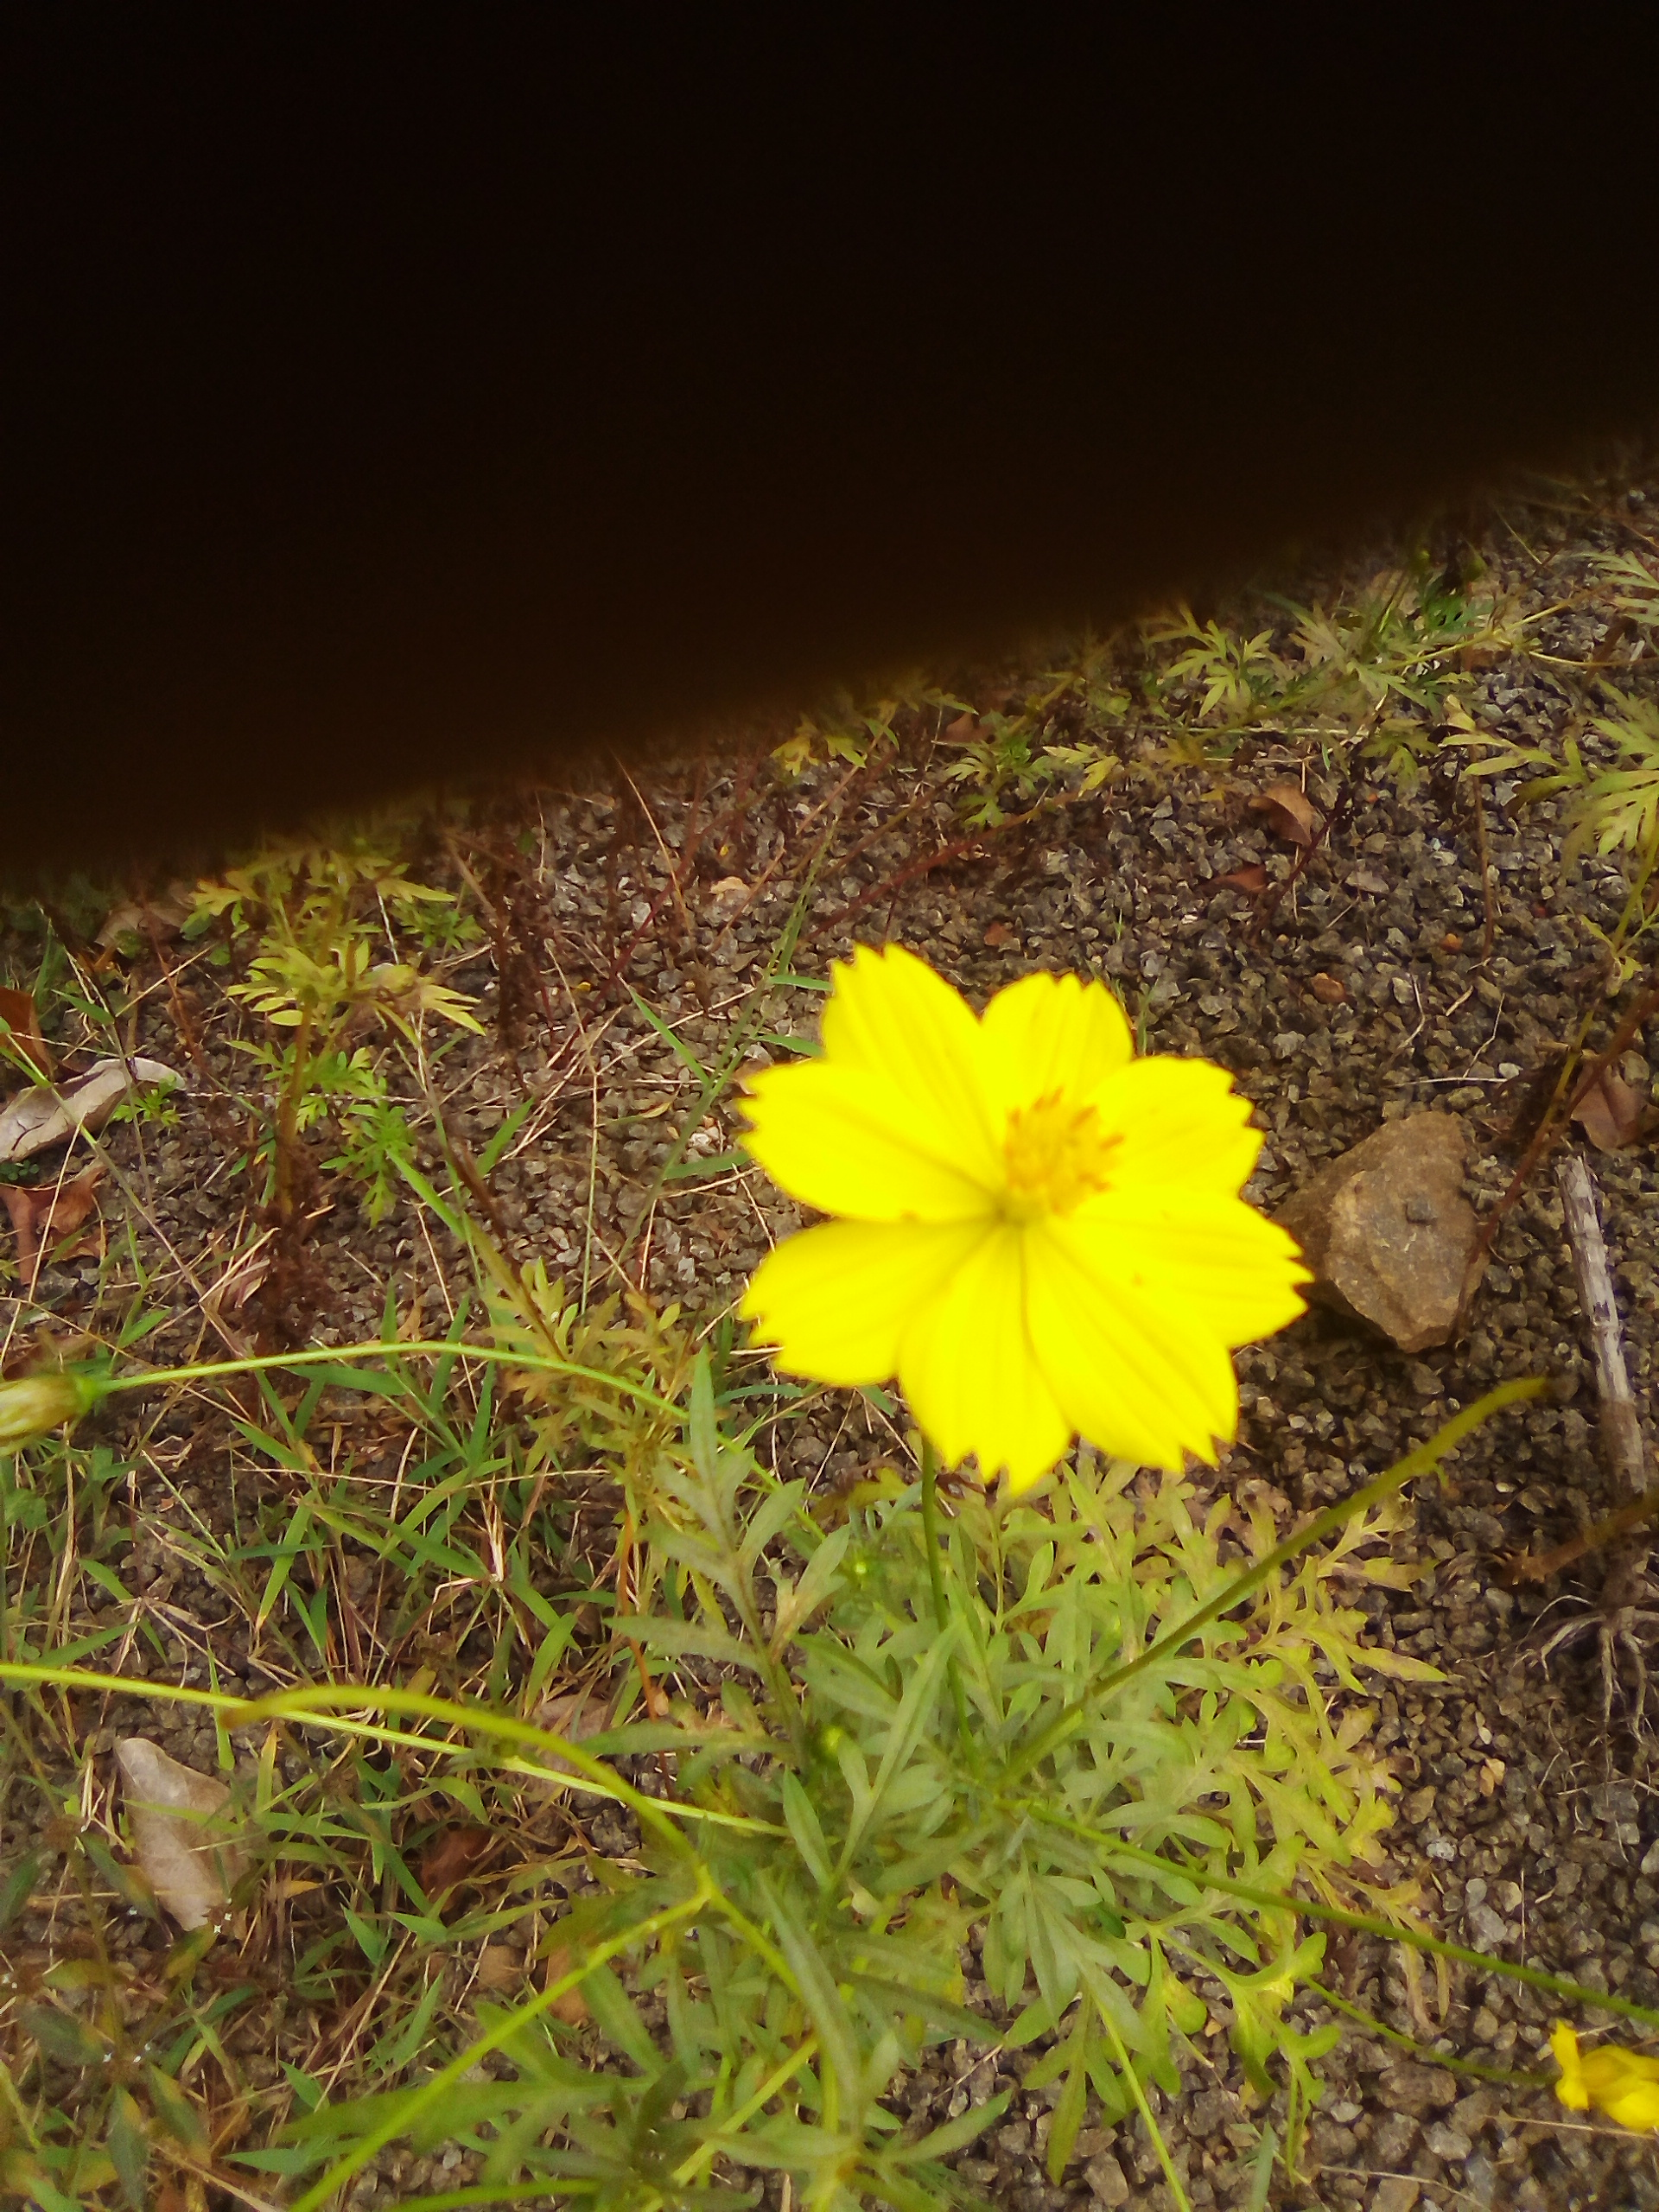kahamala: (697, 927, 1352, 1493)
